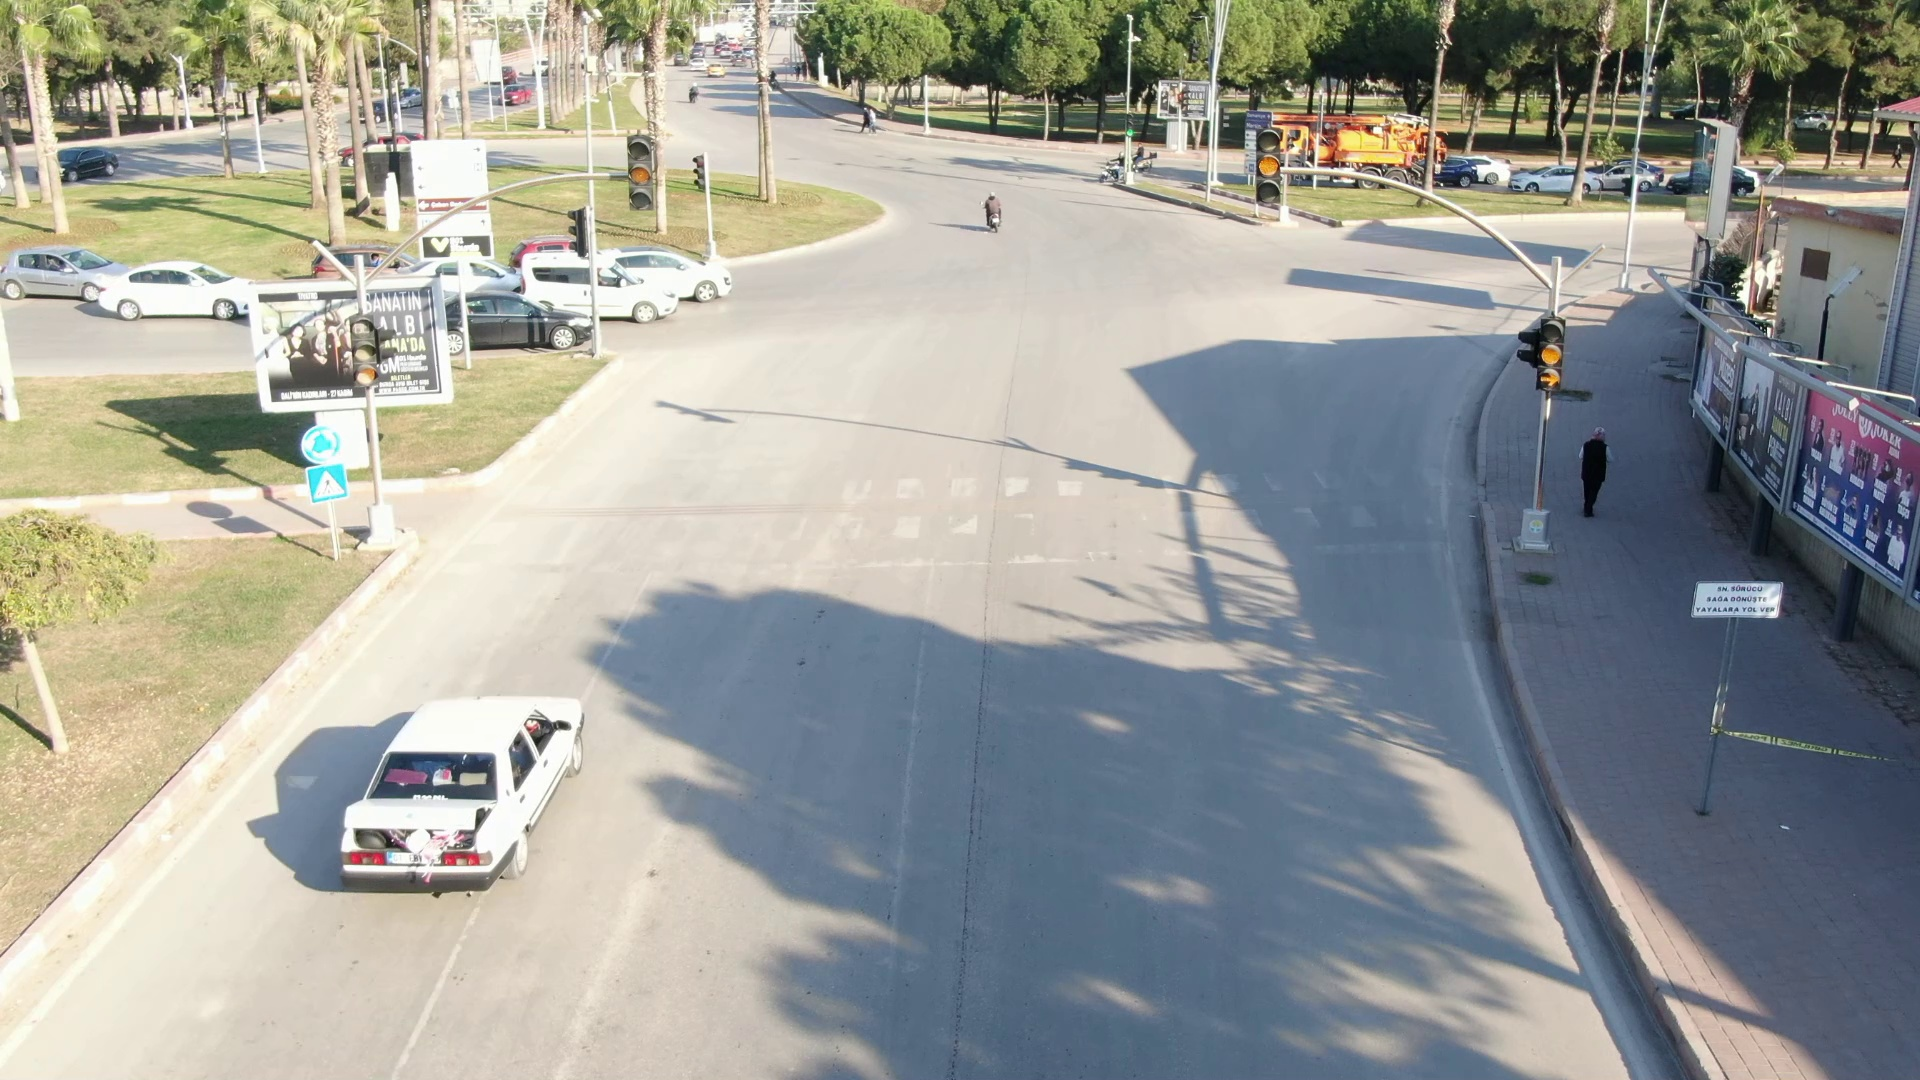car: (321, 665, 612, 898), (508, 243, 686, 317), (582, 231, 745, 298), (94, 263, 270, 317), (4, 243, 121, 302)
person: (1572, 394, 1610, 523), (972, 184, 1017, 233)
